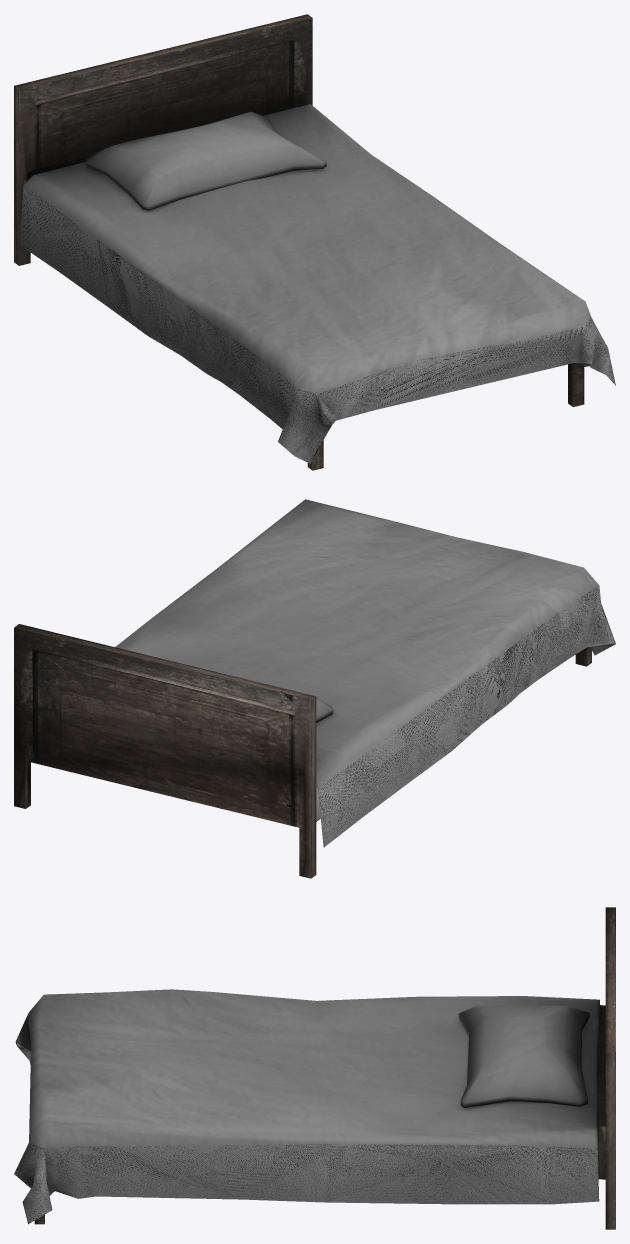
Rendered from bed.fbx.
3 views of the same model, one above another, from view 1: azimuth 30°, elevation 25°; view 2: azimuth 150°, elevation 25°; view 3: azimuth 270°, elevation 25° (orthographic).
Visible parts, largest first — view 1: old bed; view 2: old bed; view 3: old bed.
Part boxes in pixels (x1=…): old bed: x1=14, y1=14, x2=615, y2=470; old bed: x1=14, y1=499, x2=615, y2=878; old bed: x1=14, y1=907, x2=615, y2=1229.
Size of the model in its own units: 207 by 106 by 326.
Materials: 1 (1 with a texture image).
